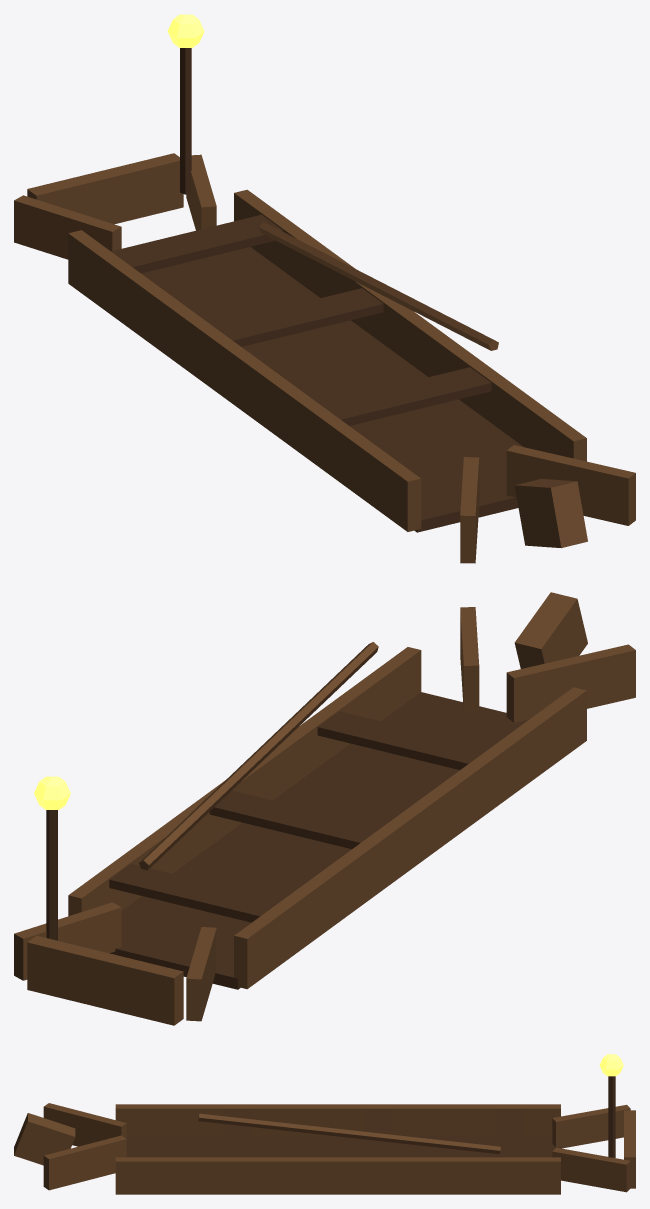
The model's file is br_ferry_boat.glb.
The picture shows the model from 3 angles, top to bottom: view 1: azimuth 30°, elevation 25°; view 2: azimuth 150°, elevation 25°; view 3: azimuth 270°, elevation 25°; orthographic projection. The views are drawn at different scales.
Parts seen in each view (by area): view 1: br_ferry_boat; view 2: br_ferry_boat; view 3: br_ferry_boat.
Part boxes in pixels (x1,y1,x2,y2): br_ferry_boat: [14, 14, 635, 563]; br_ferry_boat: [14, 592, 635, 1025]; br_ferry_boat: [14, 1054, 635, 1194].
Size of the model in its own units: 1.4 by 1.47 by 6.14.
